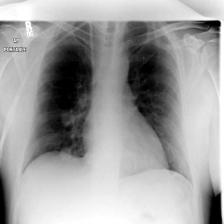normal: (19, 17, 196, 190)
